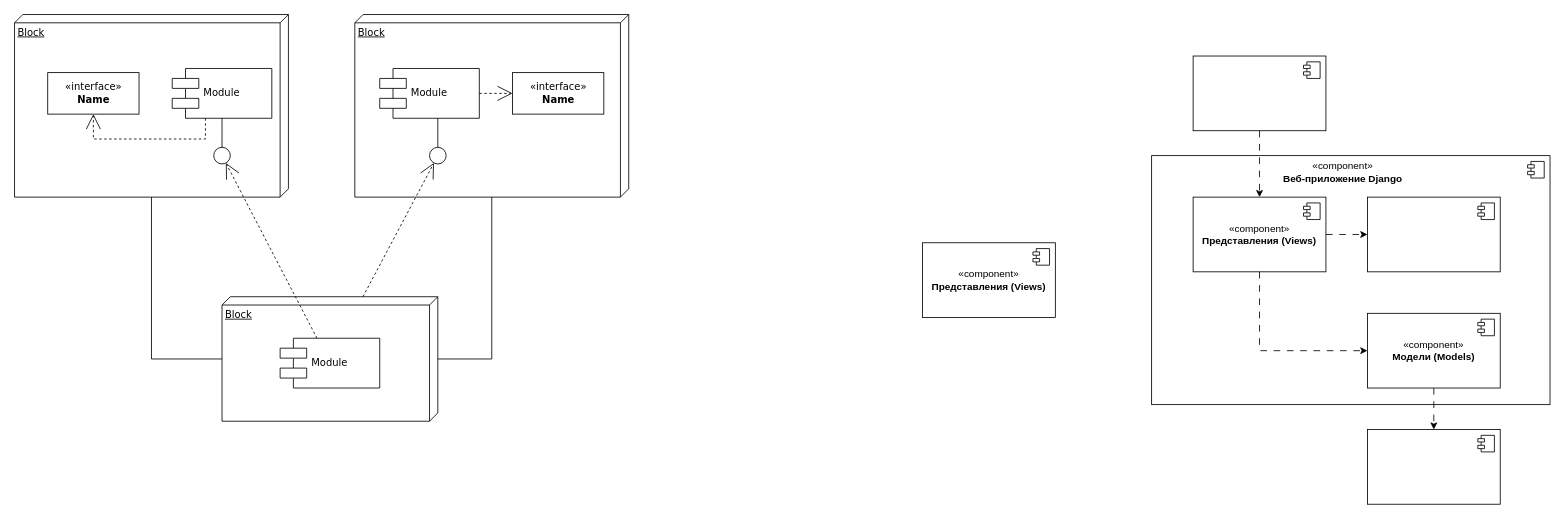
This 1565x519 diagram has some shape labels left out. Here are the shapes that lost their labels. From the top down, the centre of each, then its label:
At point 1259,93: "«component» Клиент".
At point 1433,234: "«component» Шаблоны (Templates)".
At point 1433,466: "«component» База данных".
